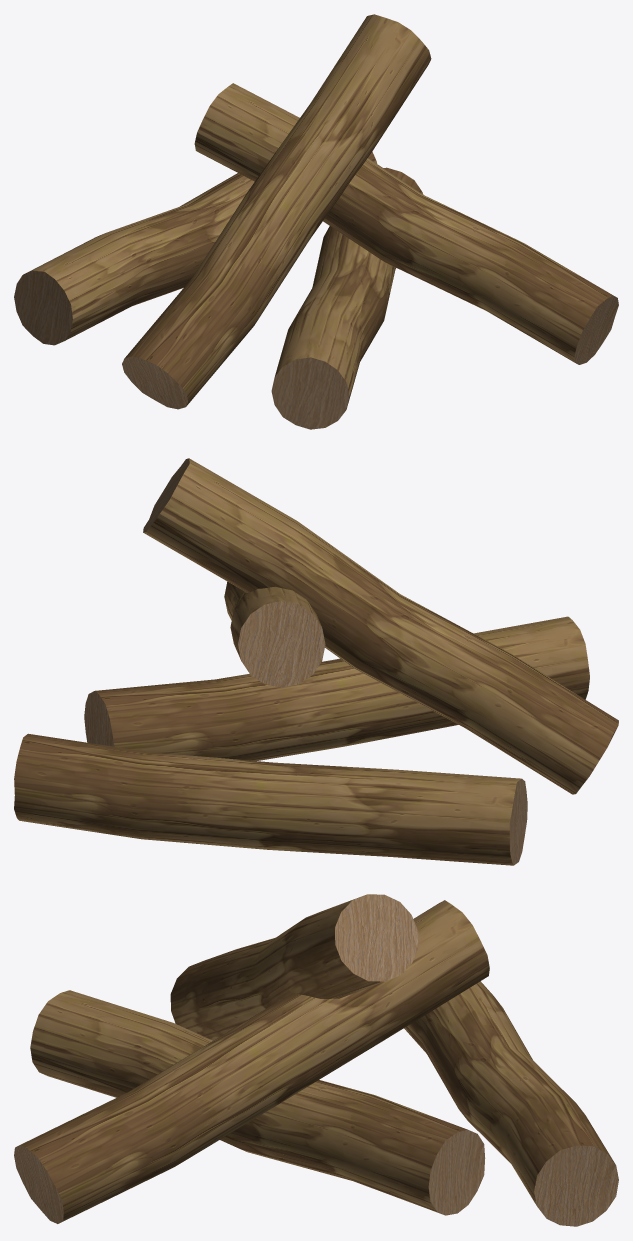
The model's file is FuelBranch.fbx.
3 renders of one model, top to bottom at view 1: azimuth 30°, elevation 25°; view 2: azimuth 150°, elevation 25°; view 3: azimuth 270°, elevation 25°, orthographic. The views are drawn at different scales.
Visible parts, largest first — view 1: Branches; view 2: Branches; view 3: Branches.
Boxes of the visible parts, x1=… form: Branches: x1=14, y1=14, x2=618, y2=429; Branches: x1=14, y1=458, x2=618, y2=865; Branches: x1=14, y1=894, x2=618, y2=1226.
Bounding box in the file's own units: 156 × 95.54 × 169.
